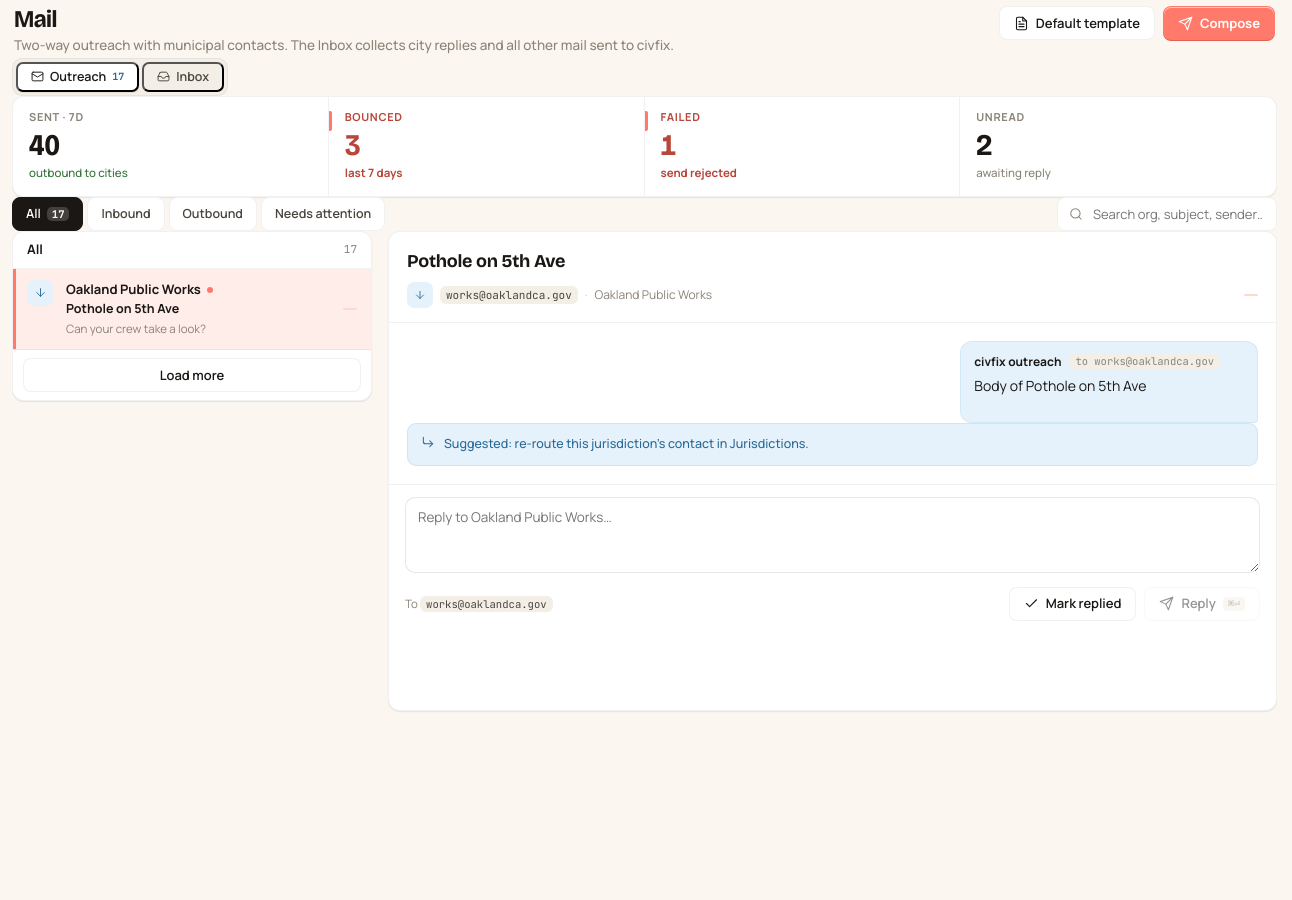
it: MailPage outreach › shows Load more when a cursor is returned and fetches the next page with it
The image size is (1292, 900).
Expected: the 2nd text "Pothole on 5th Ave" is shown, [66, 300, 179, 317]
Click the button "Load more".
click(192, 375)  # box [23, 358, 361, 392]
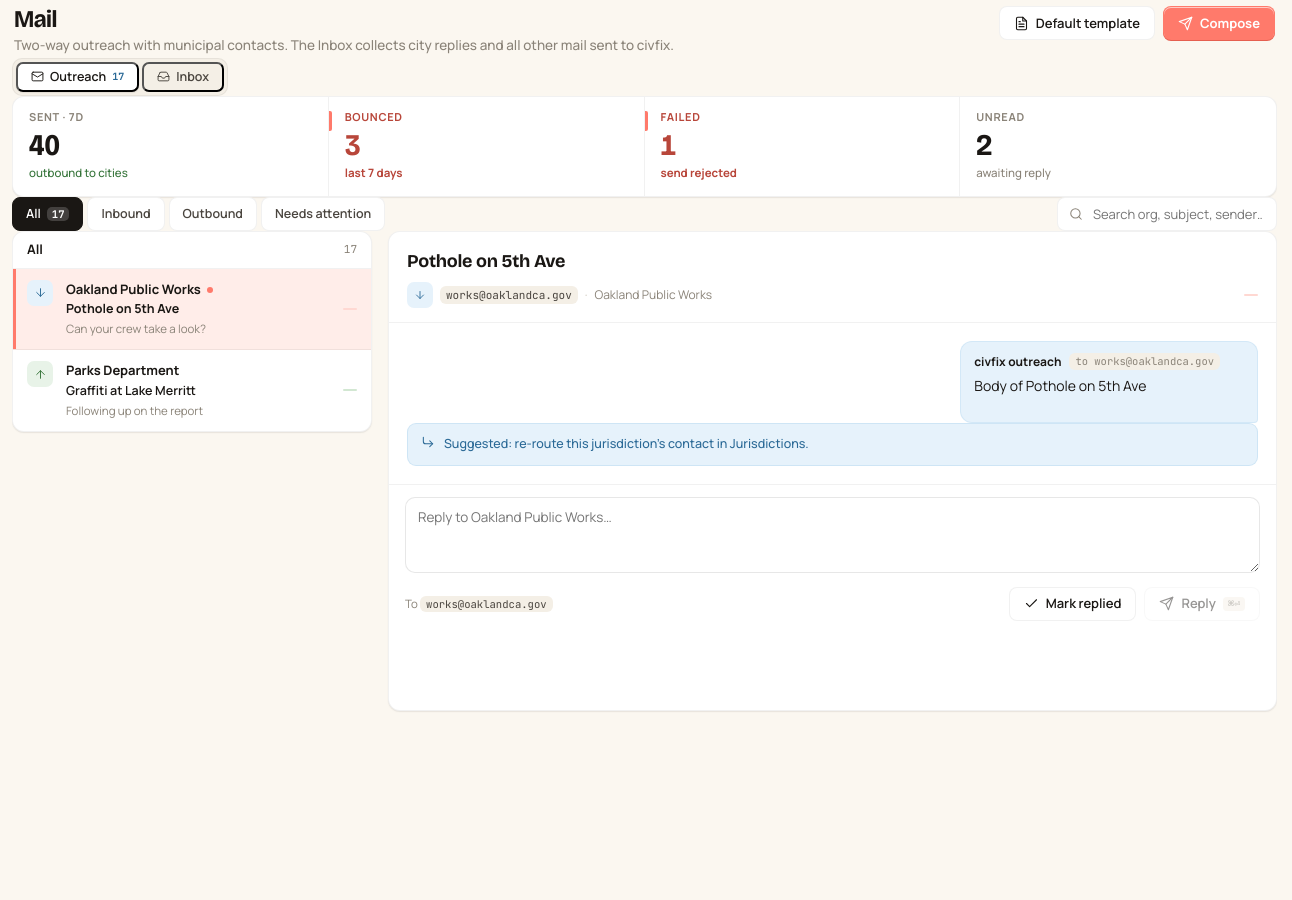
Expected: the text "Graffiti at Lake Merritt" is shown, [66, 382, 196, 399]
Expected: the button "Load more" is gone
